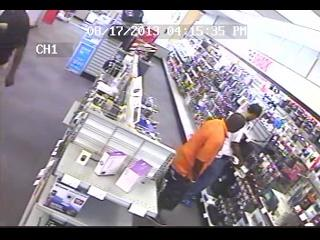Normal: (157, 103, 262, 210), (1, 10, 30, 88)
